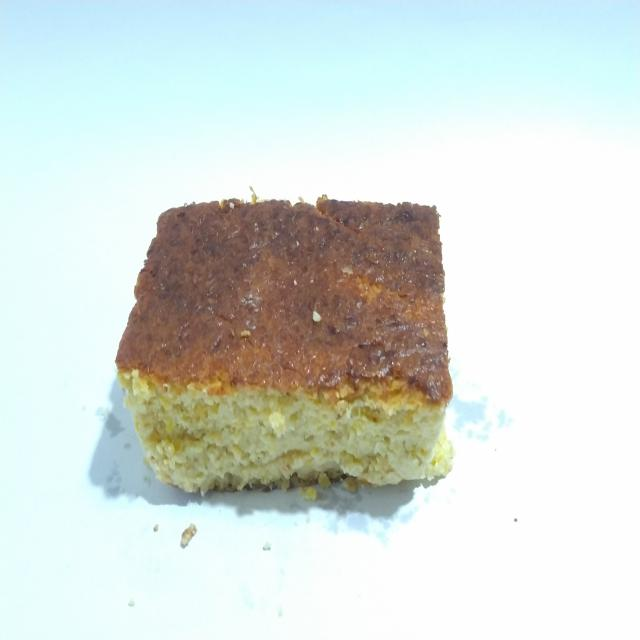Food: (120, 188, 467, 503)
